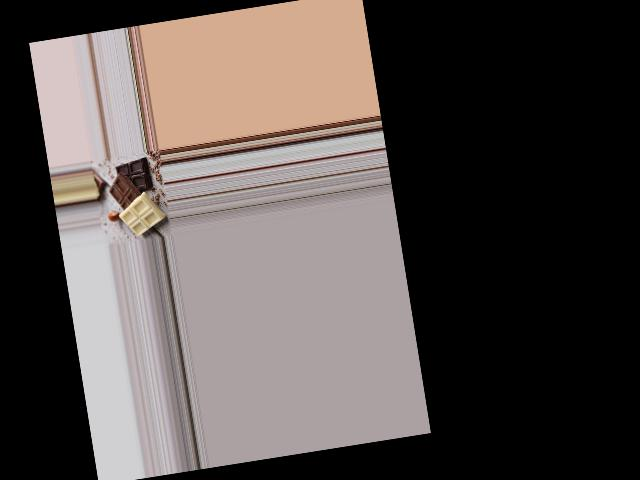chocolate: (104, 152, 163, 239)
